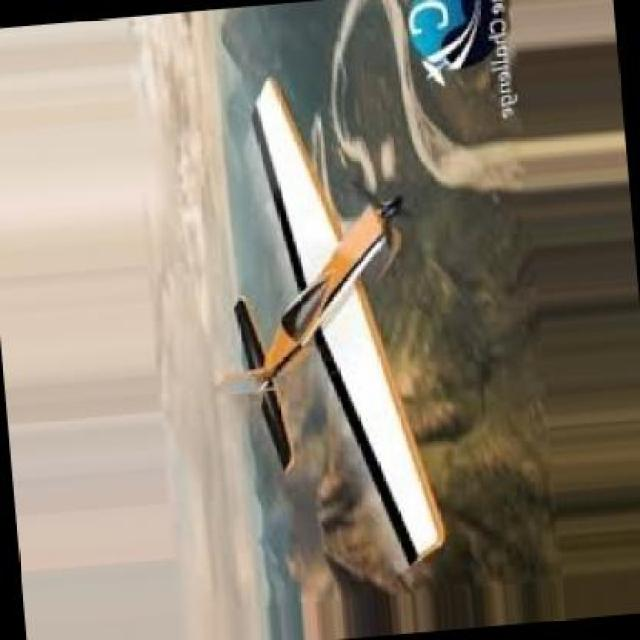iha: (220, 68, 457, 571)
